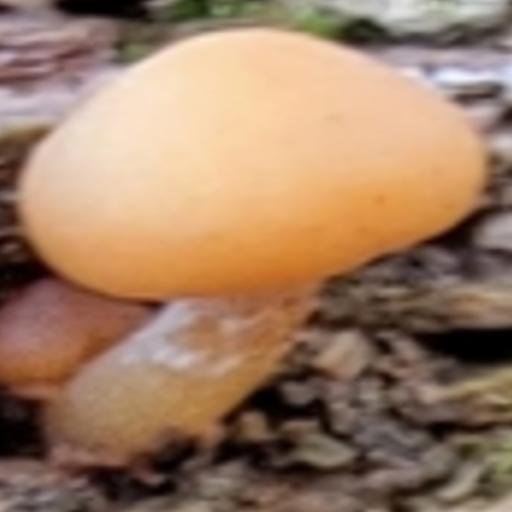mushroom: (26, 24, 493, 432)
